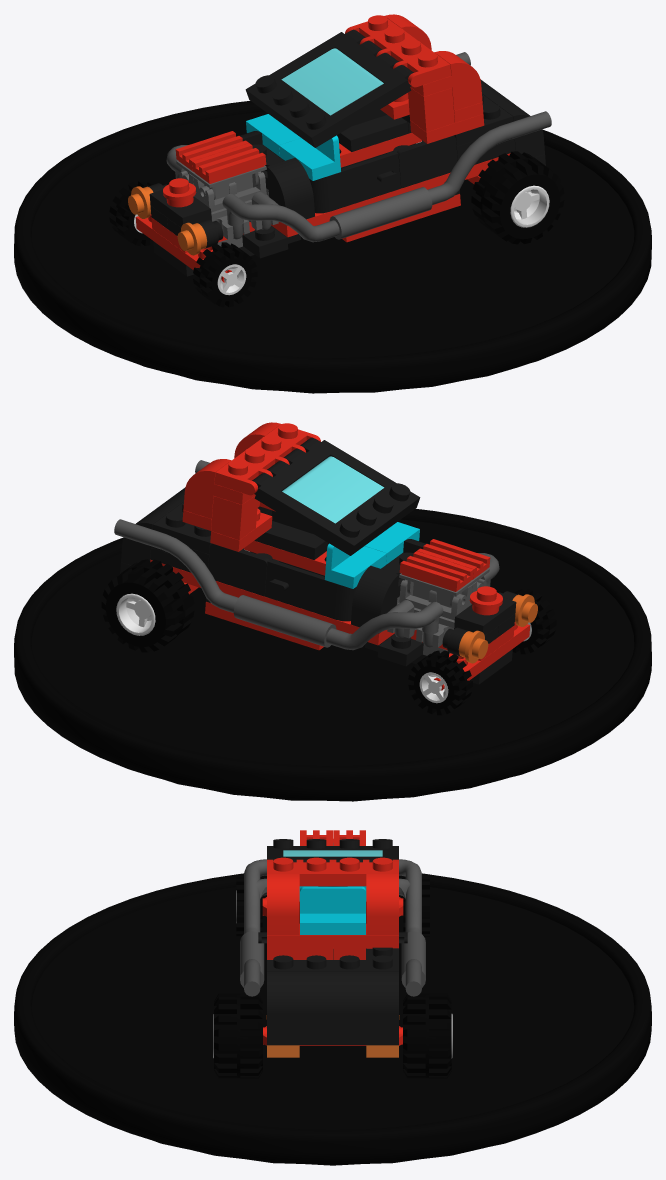
The model's file is hotRod.glb.
3 renders of one model, top to bottom at view 1: azimuth 30°, elevation 25°; view 2: azimuth 150°, elevation 25°; view 3: azimuth 270°, elevation 25°, orthographic.
Visible parts, largest first — view 1: Plane, Plane.001, 4466.dat_LDrawMesh.014, Part_2349.61_9A4377AA_56C7_46E8_B664_46148176A797.61, Part_87697.60_048D3796_CC97_40B3_A03F_329CEDA056B9.60, Part_2348.62_5BACE67C_97B8_4011_A674_FBC57BE83880.62, Part_3822.54_17A04035_89CD_4766_9328_1B385FDF8C8D.54, Part_4315.66_DE1A4E3E_16F0_4E59_AD0F_47AC8F713B5E.66, Part_3641.53_FD946829_52C5_4AF0_B517_AB281CDA779E.53, Part_6091.49_59807F86_498F_4875_AD66_FDDD8373D6FB.49, Part_4865.11_B1860D3E_F6F1_417B_AAD7_2EE76D949E61.11, Part_6091.47_12F512C1_9BCF_4F31_8730_ED04858CBA04.47 (+25 smaller); view 2: Plane, Plane.001, 4466.dat.001_LDrawMesh.000, Part_2349.61_9A4377AA_56C7_46E8_B664_46148176A797.61, Part_87697.51_5A720B46_EDDD_43F1_A7EA_0A7823CE047C.51, Part_2348.62_5BACE67C_97B8_4011_A674_FBC57BE83880.62, Part_3821.59_C9DF835F_5654_4556_BE1D_4AE0104F535C.59, Part_4315.66_DE1A4E3E_16F0_4E59_AD0F_47AC8F713B5E.66, Part_3641.64_9F4FD374_0BB6_4011_A53C_11AF616C8DC1.64, Part_6091.48_0B5D560E_184C_4C56_9900_9CD122FB088E.48, Part_4865.15_84CE49F2_B804_4AC7_A03F_471A874A5DE9.15, Part_6091.44_2B2C2E07_0235_43E3_8FEF_92D10420516E.44 (+25 smaller); view 3: Plane, Plane.001, Part_6081.37_D1D322BF_7F4A_4F45_A079_EAAF4CBE7529.37, Part_87697.60_048D3796_CC97_40B3_A03F_329CEDA056B9.60, Part_87697.51_5A720B46_EDDD_43F1_A7EA_0A7823CE047C.51, Part_4865.45_57661DC7_1A4C_4D60_90C3_E46EB818679E.45, Part_4315.66_DE1A4E3E_16F0_4E59_AD0F_47AC8F713B5E.66, 4466.dat_LDrawMesh.014, 4466.dat.001_LDrawMesh.000, Part_3020.38_C2F188BB_A153_4924_AB82_2B4AF4458273.38, Part_6091.47_12F512C1_9BCF_4F31_8730_ED04858CBA04.47, Part_6091.44_2B2C2E07_0235_43E3_8FEF_92D10420516E.44 (+7 smaller).
Boxes of the visible parts, x1,y1,x2,y2 form: Plane: [31, 111, 634, 357]; Plane.001: [14, 100, 651, 393]; 4466.dat_LDrawMesh.014: [222, 111, 551, 242]; Part_2349.61_9A4377AA_56C7_46E8_B664_46148176A797.61: [245, 29, 413, 147]; Part_87697.60_048D3796_CC97_40B3_A03F_329CEDA056B9.60: [471, 151, 564, 244]; Part_2348.62_5BACE67C_97B8_4011_A674_FBC57BE83880.62: [281, 48, 383, 115]; Part_3822.54_17A04035_89CD_4766_9328_1B385FDF8C8D.54: [309, 151, 400, 213]; Part_4315.66_DE1A4E3E_16F0_4E59_AD0F_47AC8F713B5E.66: [345, 15, 451, 87]; Part_3641.53_FD946829_52C5_4AF0_B517_AB281CDA779E.53: [193, 242, 257, 307]; Part_6091.49_59807F86_498F_4875_AD66_FDDD8373D6FB.49: [261, 156, 314, 225]; Part_4865.11_B1860D3E_F6F1_417B_AAD7_2EE76D949E61.11: [397, 135, 457, 188]; Part_6091.47_12F512C1_9BCF_4F31_8730_ED04858CBA04.47: [410, 51, 482, 110]; Plane: [31, 519, 634, 765]; Plane.001: [14, 508, 651, 801]; 4466.dat.001_LDrawMesh.000: [114, 519, 443, 650]; Part_2349.61_9A4377AA_56C7_46E8_B664_46148176A797.61: [252, 437, 420, 555]; Part_87697.51_5A720B46_EDDD_43F1_A7EA_0A7823CE047C.51: [101, 559, 194, 652]; Part_2348.62_5BACE67C_97B8_4011_A674_FBC57BE83880.62: [282, 456, 384, 523]; Part_3821.59_C9DF835F_5654_4556_BE1D_4AE0104F535C.59: [265, 559, 356, 621]; Part_4315.66_DE1A4E3E_16F0_4E59_AD0F_47AC8F713B5E.66: [214, 423, 320, 495]; Part_3641.64_9F4FD374_0BB6_4011_A53C_11AF616C8DC1.64: [408, 650, 472, 715]; Part_6091.48_0B5D560E_184C_4C56_9900_9CD122FB088E.48: [350, 564, 404, 633]; Part_4865.15_84CE49F2_B804_4AC7_A03F_471A874A5DE9.15: [208, 543, 268, 596]; Part_6091.44_2B2C2E07_0235_43E3_8FEF_92D10420516E.44: [183, 459, 255, 518]; Plane: [31, 887, 634, 1129]; Plane.001: [14, 873, 651, 1165]; Part_6081.37_D1D322BF_7F4A_4F45_A079_EAAF4CBE7529.37: [267, 972, 398, 1032]; Part_87697.60_048D3796_CC97_40B3_A03F_329CEDA056B9.60: [214, 993, 262, 1078]; Part_87697.51_5A720B46_EDDD_43F1_A7EA_0A7823CE047C.51: [403, 993, 451, 1078]; Part_4865.45_57661DC7_1A4C_4D60_90C3_E46EB818679E.45: [300, 886, 365, 934]; Part_4315.66_DE1A4E3E_16F0_4E59_AD0F_47AC8F713B5E.66: [267, 857, 398, 886]; 4466.dat_LDrawMesh.014: [240, 859, 266, 996]; 4466.dat.001_LDrawMesh.000: [399, 859, 425, 996]; Part_3020.38_C2F188BB_A153_4924_AB82_2B4AF4458273.38: [267, 947, 398, 971]; Part_6091.47_12F512C1_9BCF_4F31_8730_ED04858CBA04.47: [267, 874, 299, 934]; Part_6091.44_2B2C2E07_0235_43E3_8FEF_92D10420516E.44: [366, 874, 398, 934].
Size of the model in its own units: 7.95 by 2.92 by 7.95.
